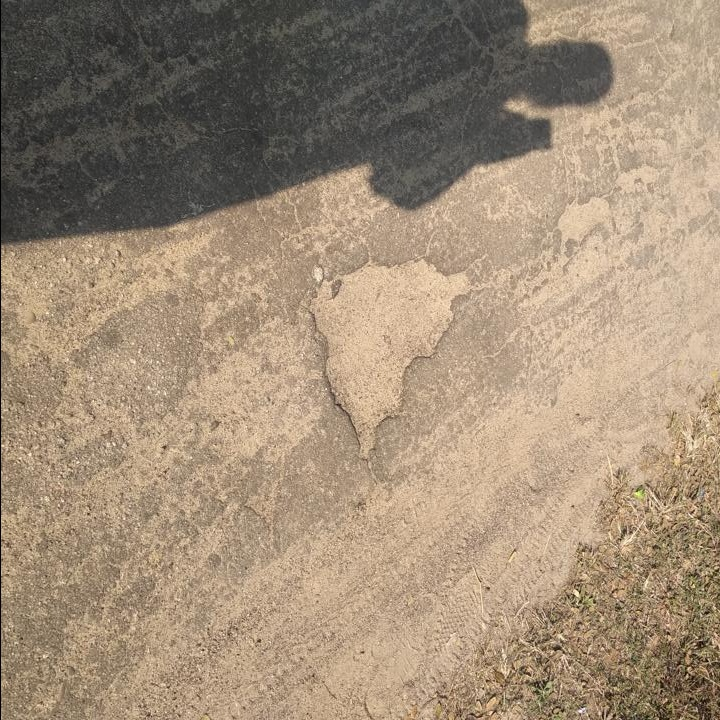pothole: (307, 248, 478, 464), (555, 190, 614, 253)
